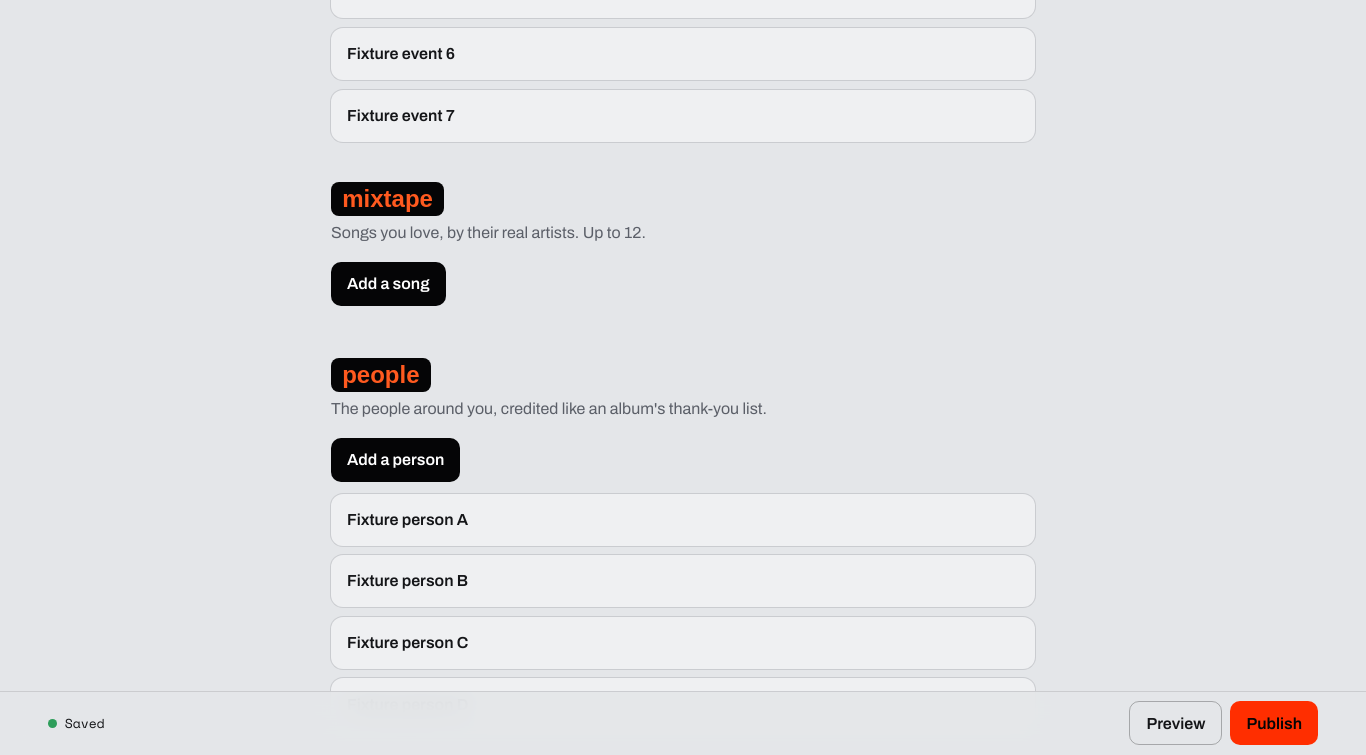
Test: pasting a song link fills in its title and artist
(page scrolled)
Click the button "Add a song".
click(388, 284)  # box [331, 262, 446, 306]
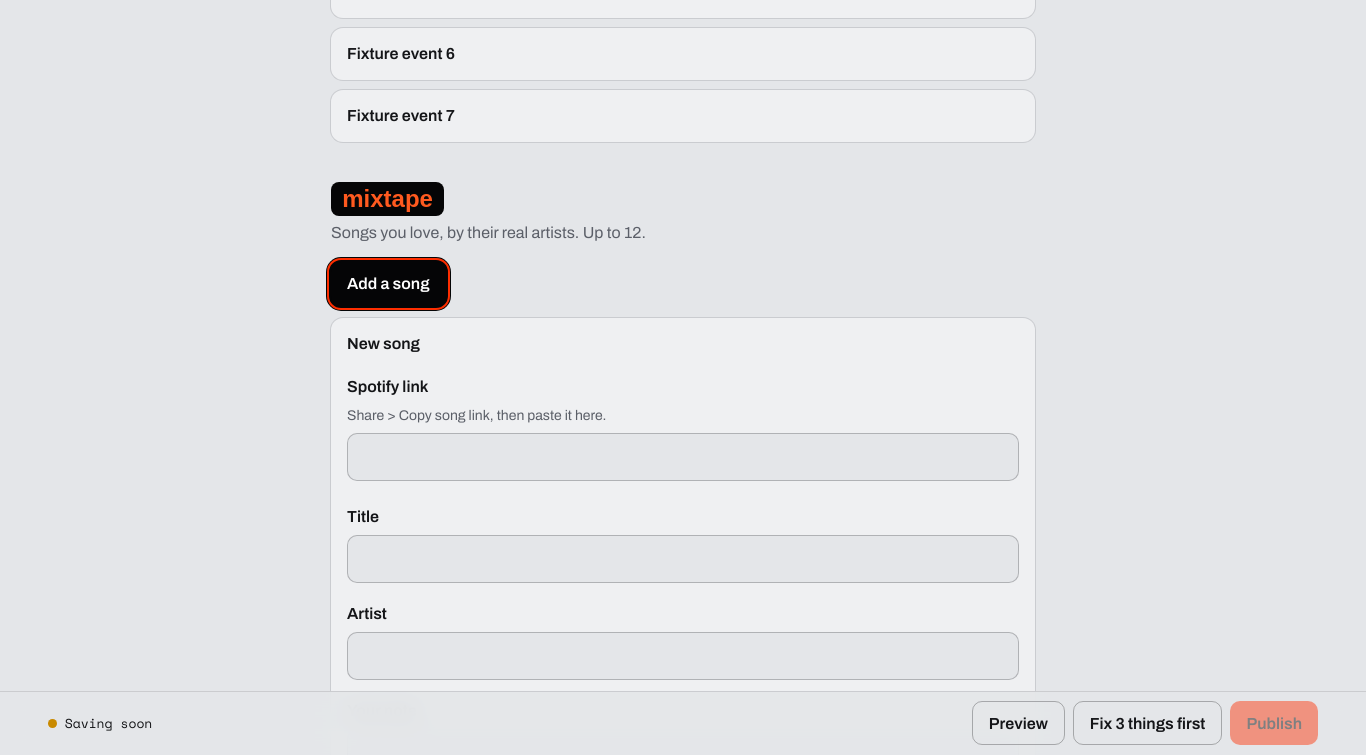
Click the field labelled "Spotify link".
click(683, 457)  # box [347, 433, 1019, 481]
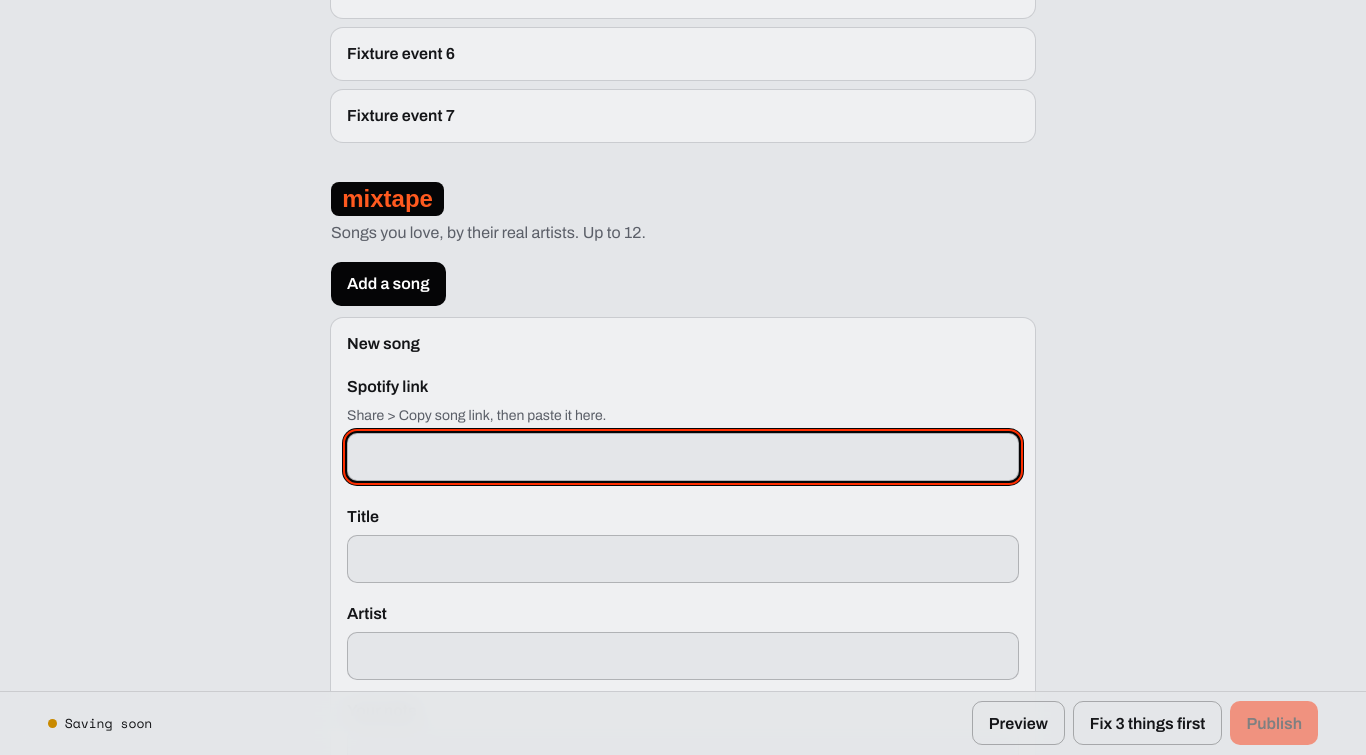
Type keys "https://open.spotify.com/track/4uLU6hMCjMI75M1A2tKUQC?si=abc"
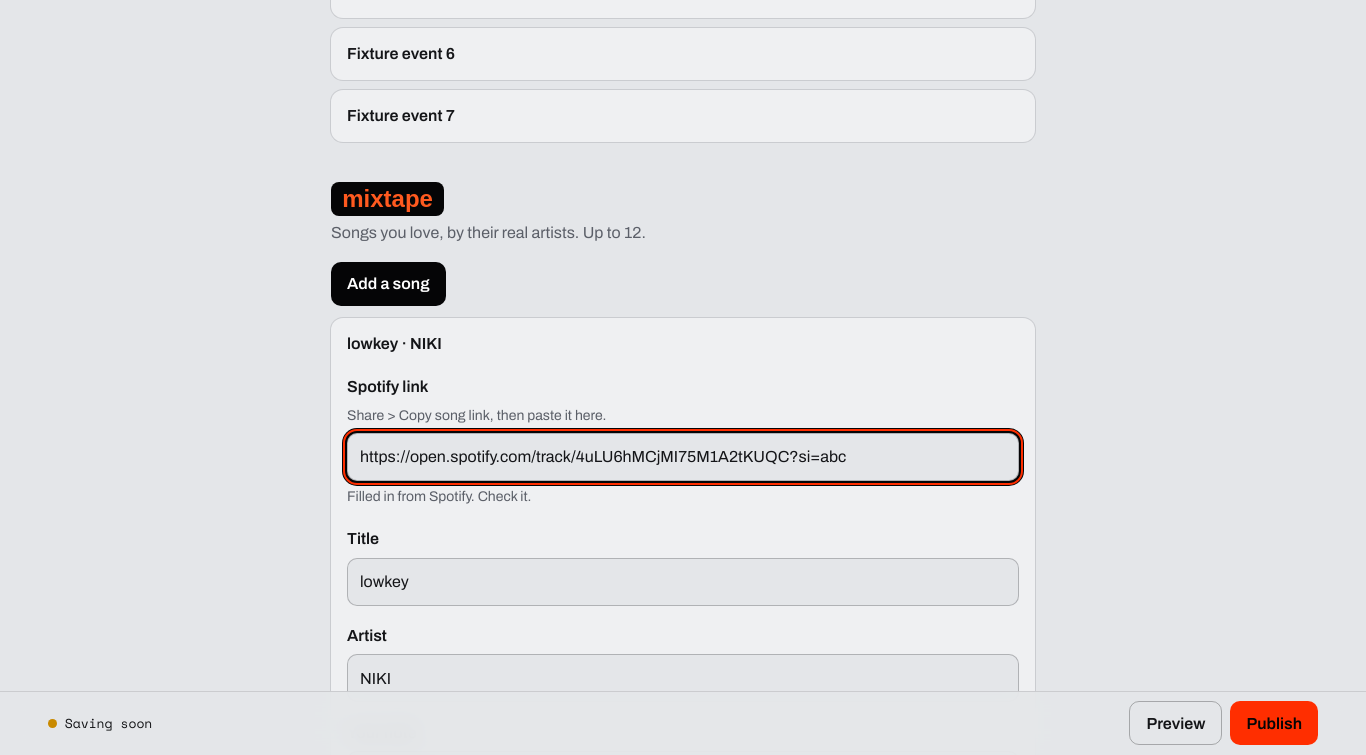
Check: the field showing "lowkey" is shown, box [347, 558, 1019, 606]
Check: the field labelled "Artist" holds "NIKI", box [347, 654, 1019, 702]
Check: the text "Filled in from Spotify. Check it." is shown, box [347, 489, 532, 504]
